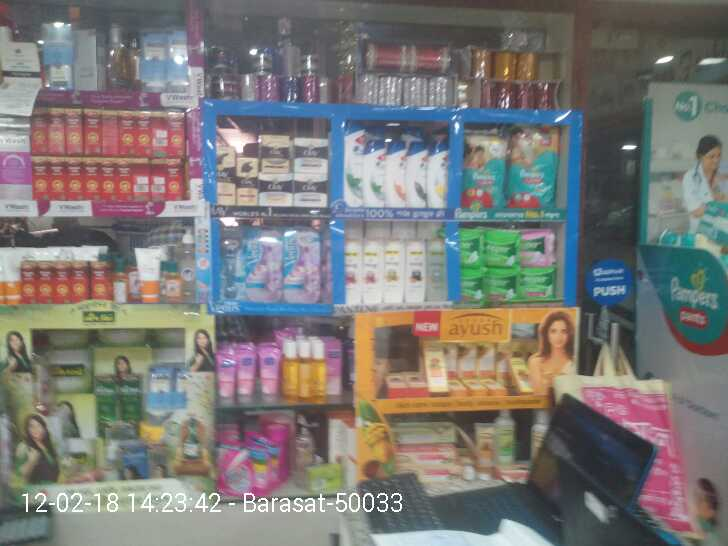venus: (285, 226, 325, 305), (248, 226, 285, 301), (219, 227, 246, 302)
